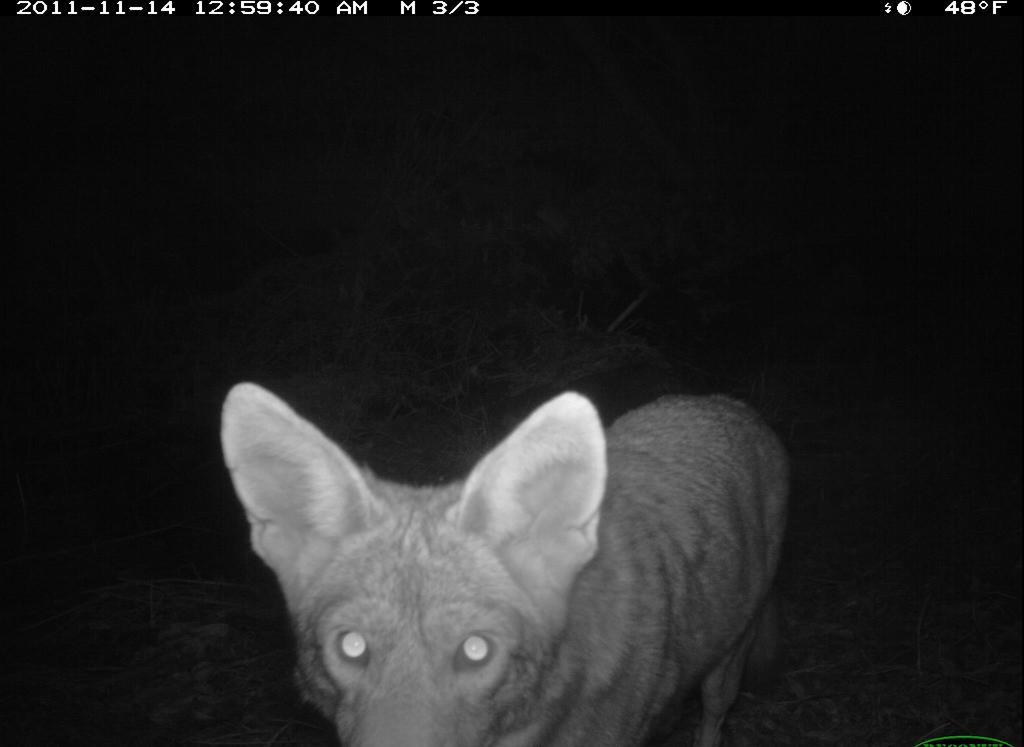coyote: (201, 344, 807, 745)
